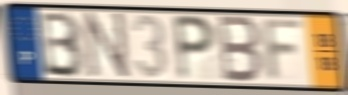3: (131, 12, 171, 83)
B: (217, 13, 264, 86), (39, 10, 87, 80)
F: (260, 17, 306, 85)
N: (84, 10, 132, 83)
P: (170, 13, 218, 84)
